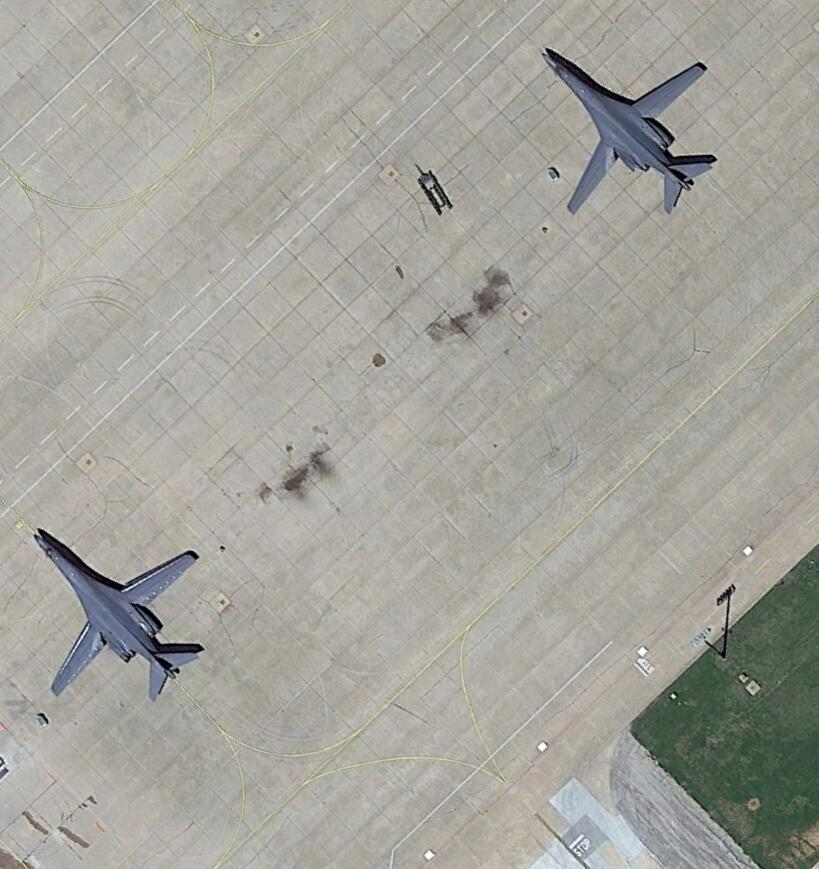A10: (29, 523, 207, 706), (541, 43, 720, 221)
